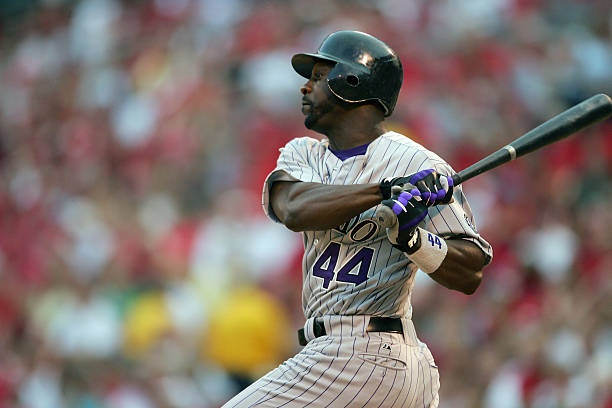bita: (381, 94, 611, 220)
